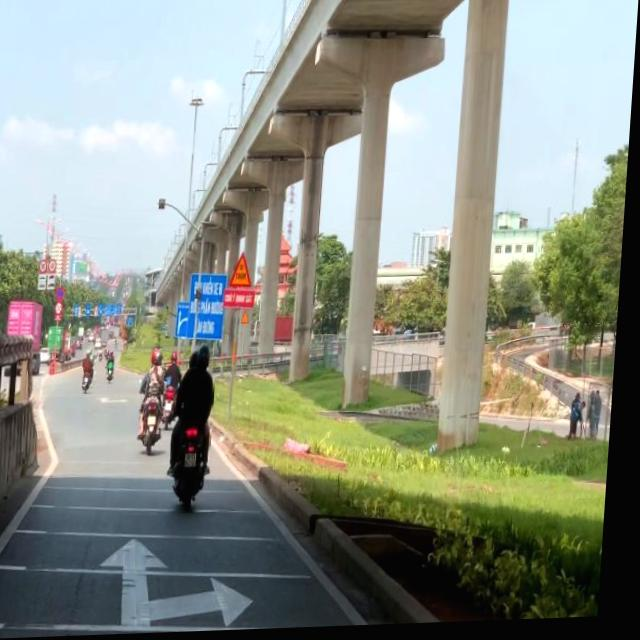Cam dung xe va do xe: (60, 286, 69, 301)
Di cham: (233, 253, 259, 292)
Toc do toi da cho phep: (43, 260, 51, 274), (53, 259, 60, 273)
